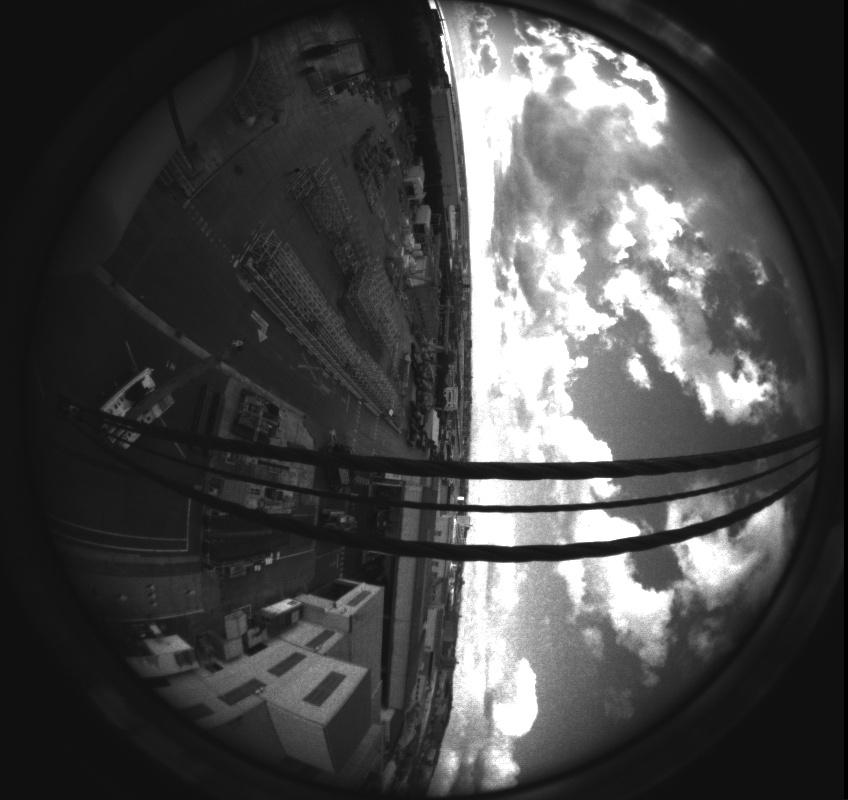rope: (13, 387, 842, 577)
